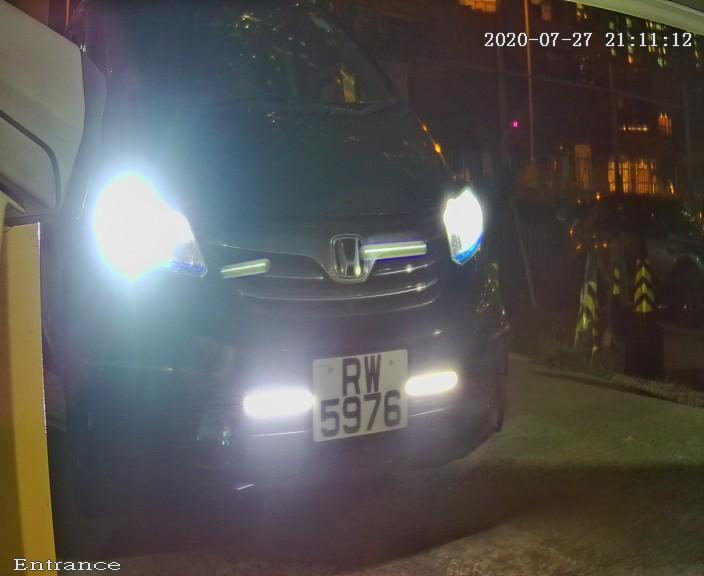privatecar: (41, 3, 544, 535)
